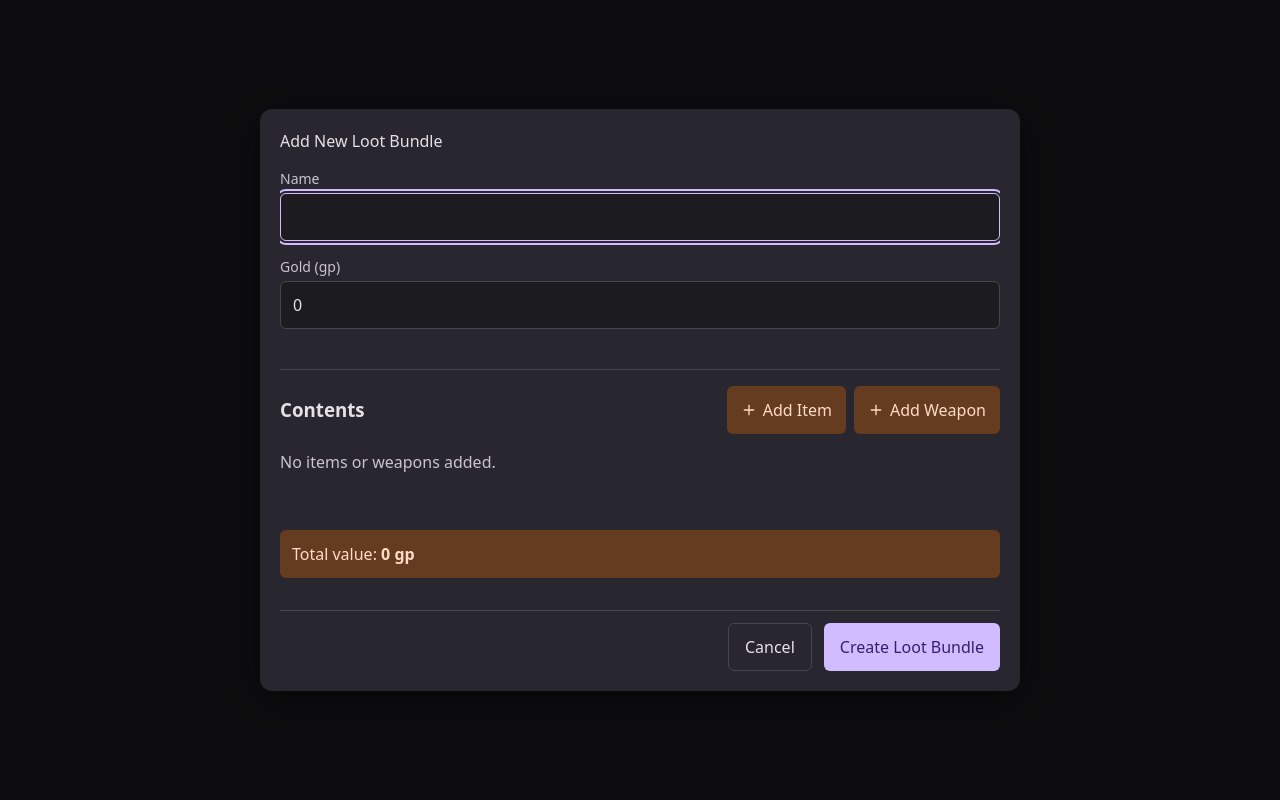
Test: LootBundleEditor › shows "Value pending" for weapons without a price
This screenshot has width=1280, height=800.
Click the button "Add Weapon".
click(927, 410)  # box [854, 386, 1000, 434]
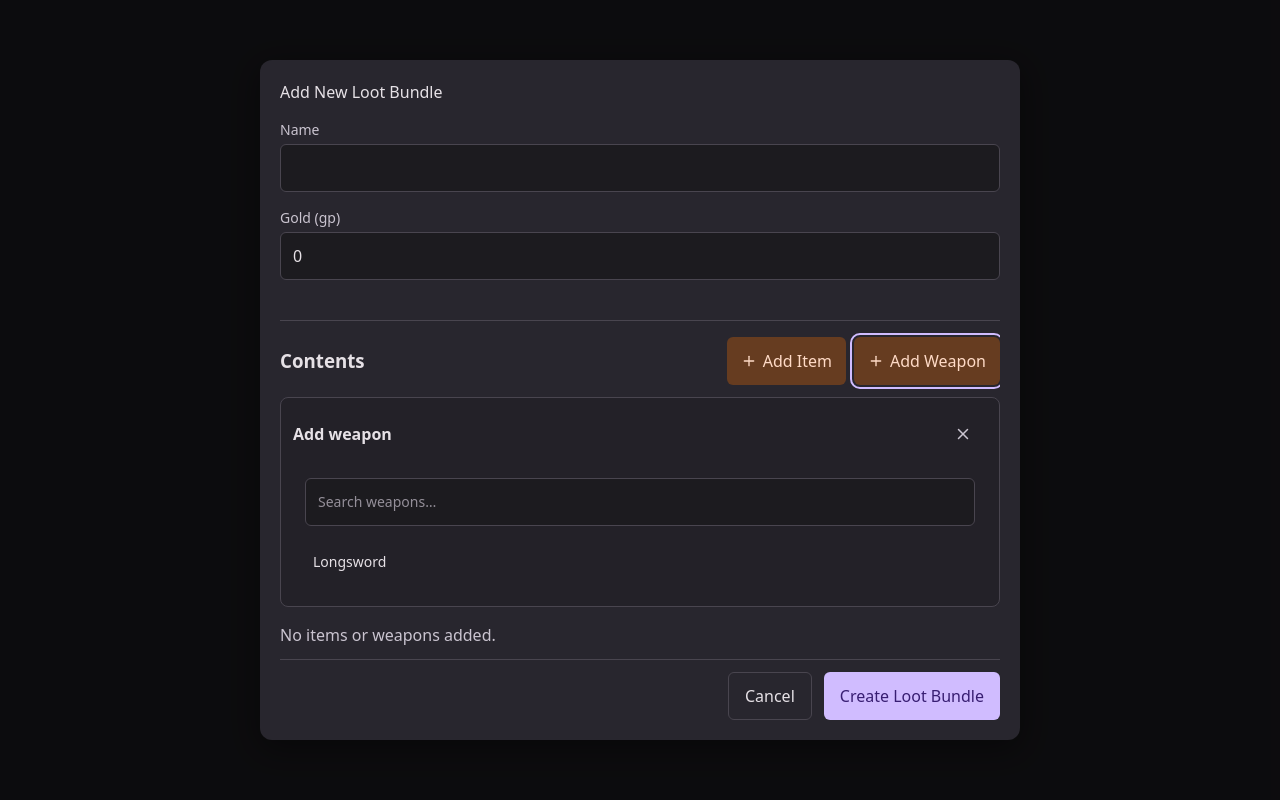
Click the button "Longsword".
click(350, 562)  # box [301, 538, 979, 586]
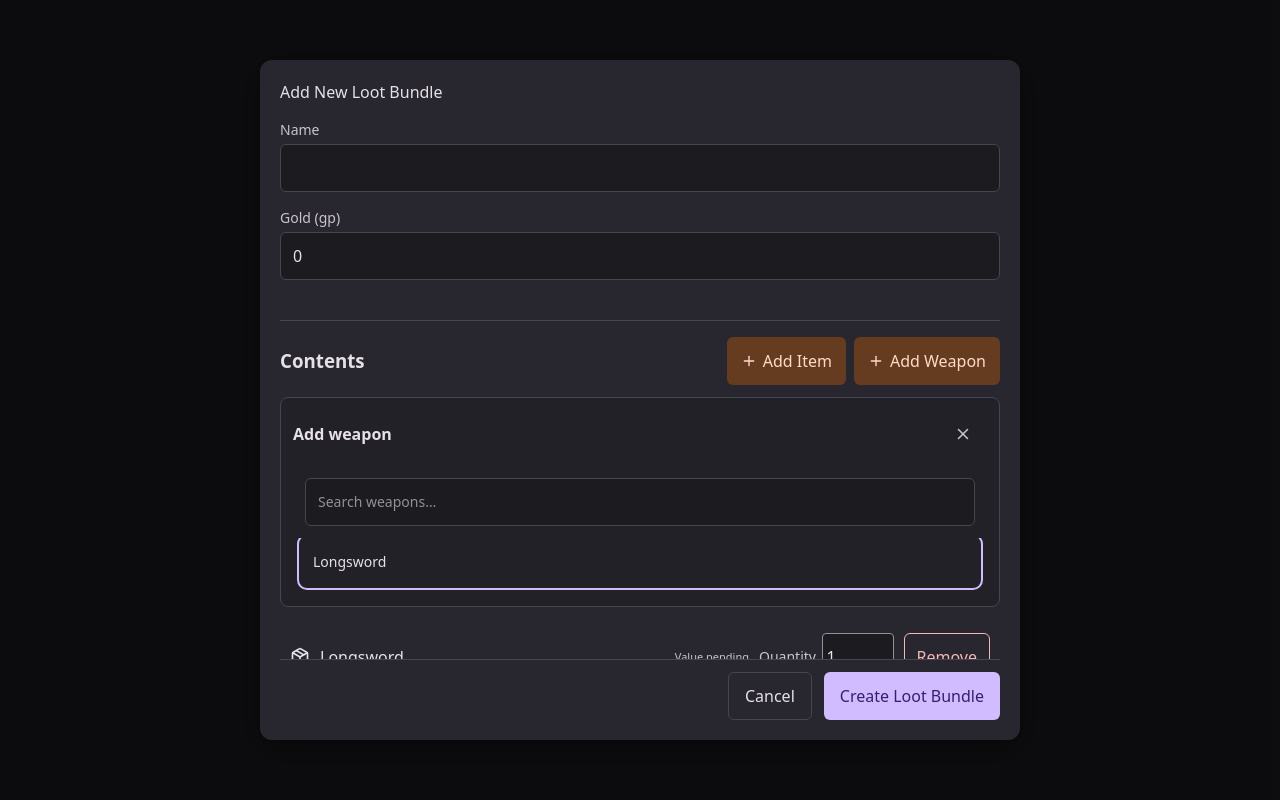
Result: the text "Value pending" is shown at [675, 649, 749, 659]
